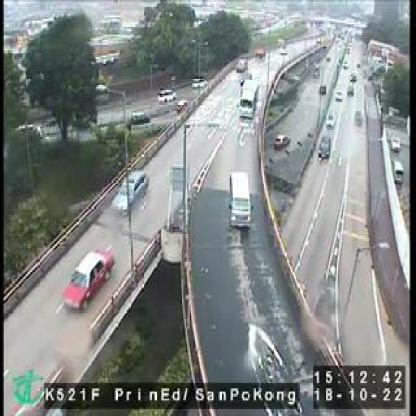Car: (61, 247, 117, 311), (128, 110, 150, 126), (319, 134, 333, 159), (158, 87, 177, 103), (274, 131, 290, 148), (394, 157, 404, 182), (174, 98, 189, 113), (325, 113, 336, 129), (392, 136, 402, 153), (236, 58, 247, 72), (335, 90, 344, 101)
Truck: (113, 169, 150, 211), (229, 171, 253, 231), (238, 80, 261, 121)
